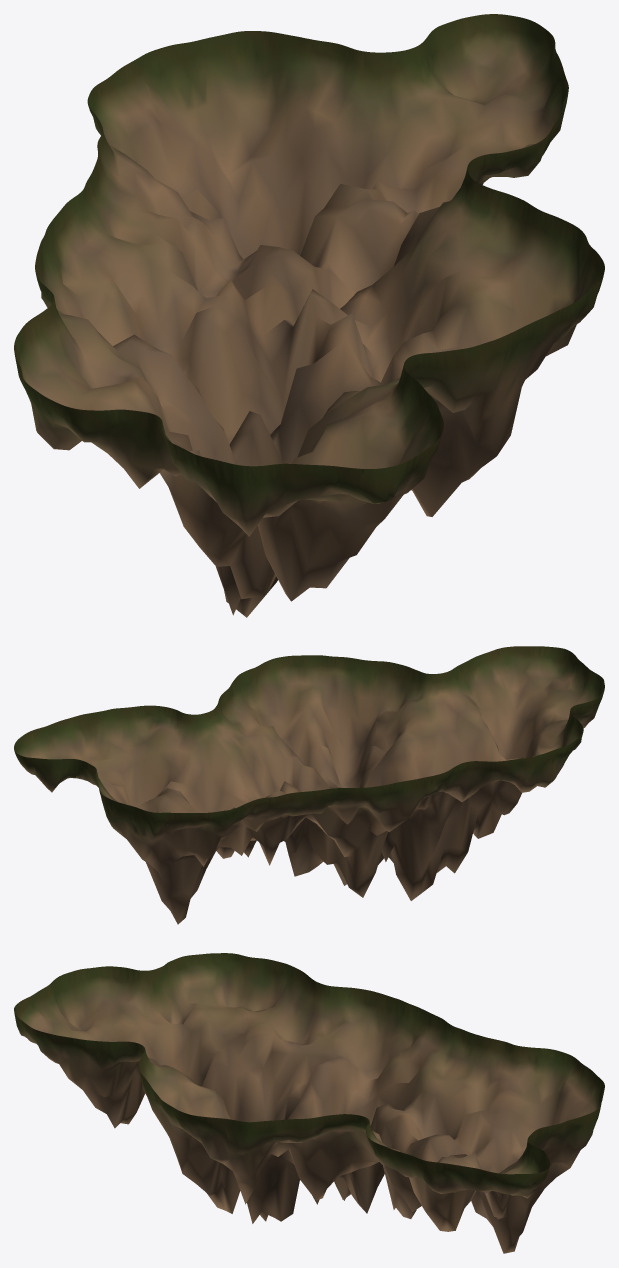
Rendered from SM_H10_IslandRock.fbx.
The picture shows the model from 3 angles, top to bottom: view 1: azimuth 30°, elevation 25°; view 2: azimuth 150°, elevation 25°; view 3: azimuth 270°, elevation 25°; orthographic projection. The views are drawn at different scales.
Parts seen in each view (by area): view 1: SM_H10_IslandRock; view 2: SM_H10_IslandRock; view 3: SM_H10_IslandRock.
Part boxes in pixels (box(x1,y1,x2,y2)): SM_H10_IslandRock: box(14, 14, 604, 617); SM_H10_IslandRock: box(14, 646, 604, 924); SM_H10_IslandRock: box(14, 953, 604, 1253).
Bounding box in the file's own units: 190 × 78.51 × 214.
